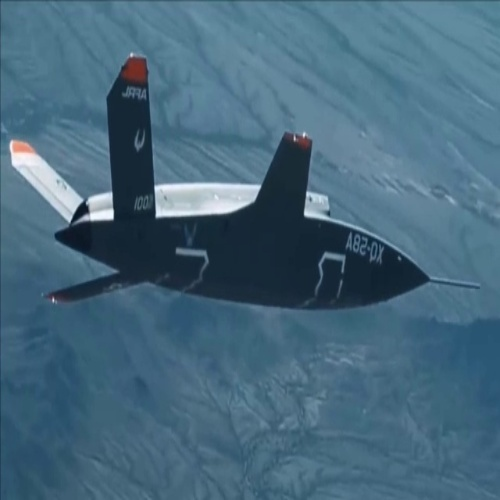uav953: (4, 55, 483, 319)
